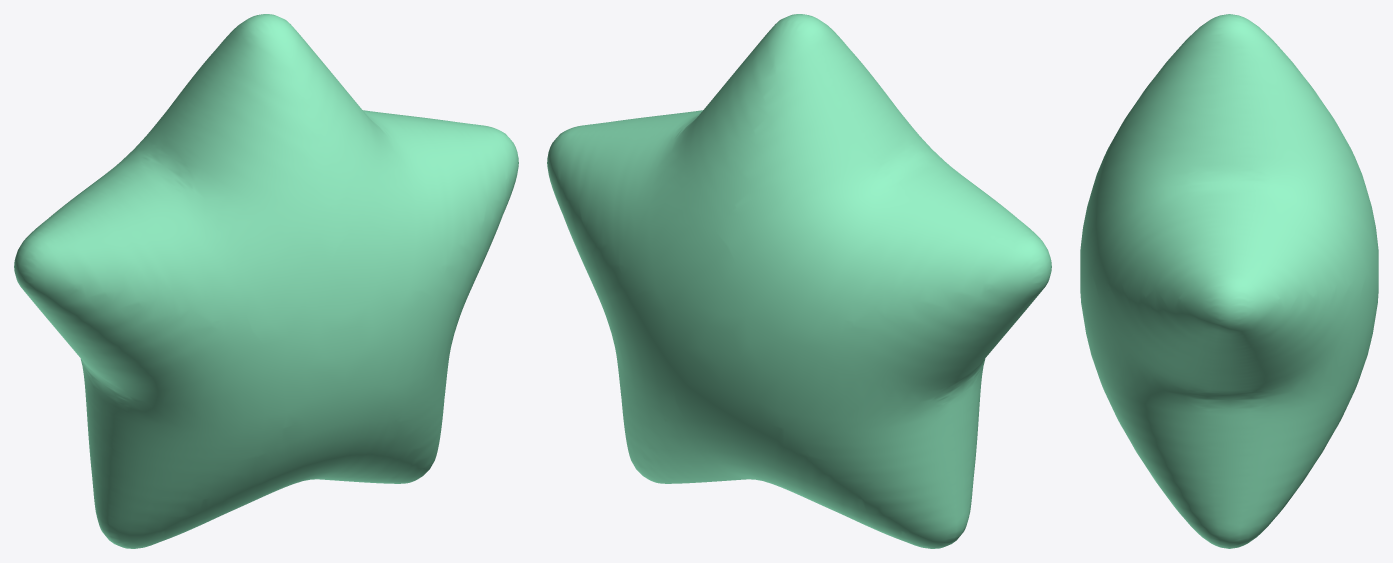
File: stargreen.glb
The picture shows the model from 3 angles, left to right: view 1: azimuth 30°, elevation 25°; view 2: azimuth 150°, elevation 25°; view 3: azimuth 270°, elevation 25°; orthographic projection. The views are drawn at different scales.
Visible parts, largest first — view 1: Star 2; view 2: Star 2; view 3: Star 2.
Part boxes in pixels (box(x1,y1,x2,y2)): Star 2: box(14, 14, 518, 548); Star 2: box(547, 14, 1051, 548); Star 2: box(1080, 14, 1378, 548).
Bounding box in the file's own units: 25.13 × 24.05 × 13.93.
